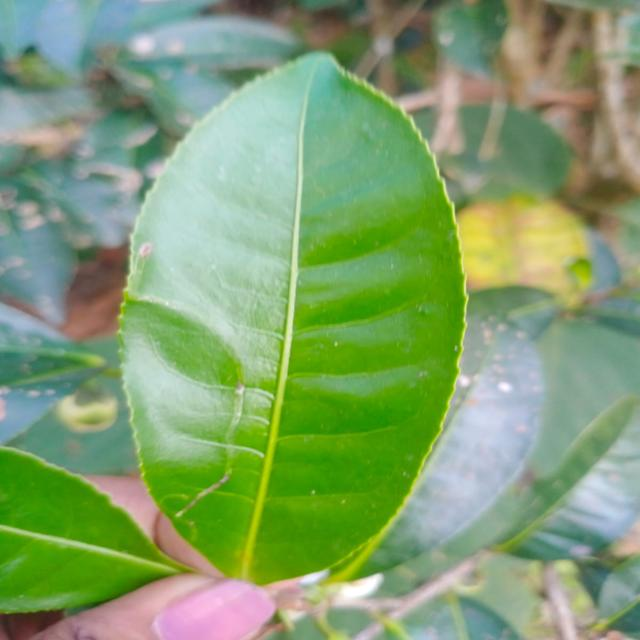Category D 7+ days, Not for Tea: (99, 35, 493, 600)
